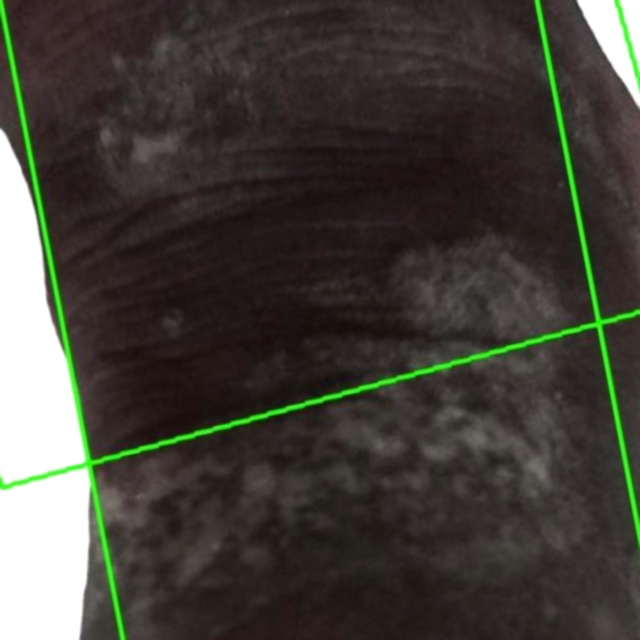Eczema: (0, 0, 639, 486)
